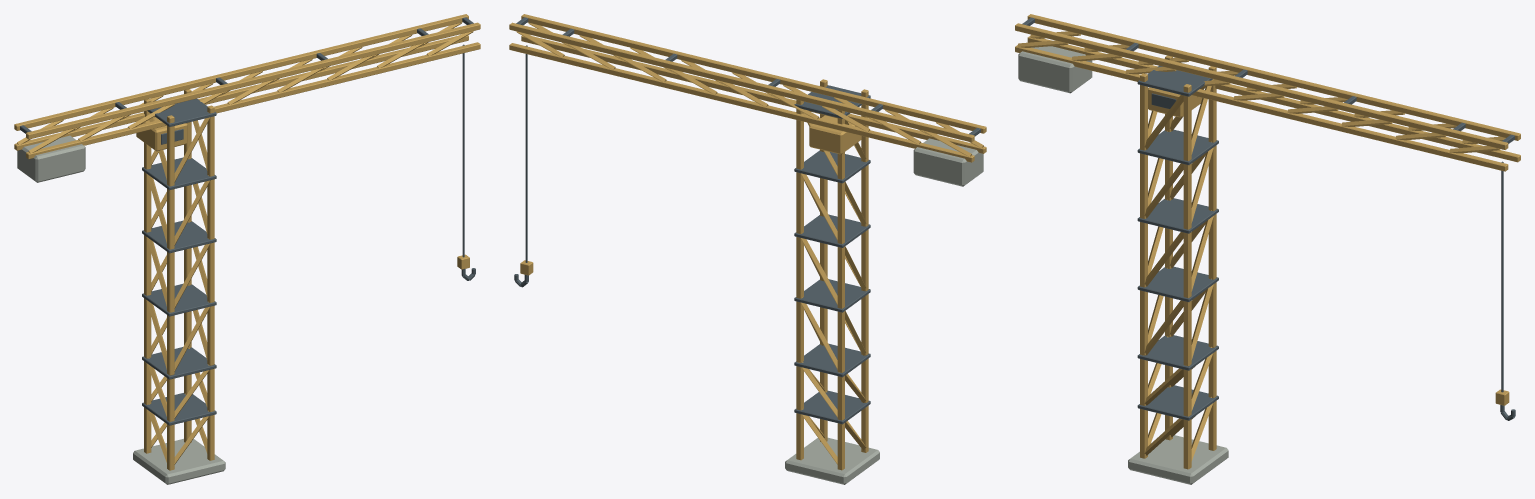
Rendered from crane.glb.
3 renders of one model, left to right at view 1: azimuth 30°, elevation 25°; view 2: azimuth 150°, elevation 25°; view 3: azimuth 330°, elevation 25°, orthographic. The views are drawn at different scales.
Parts seen in each view (by area): view 1: Occlude_Mast_Mesh, Keep_Mesh; view 2: Occlude_Mast_Mesh, Keep_Mesh; view 3: Occlude_Mast_Mesh, Keep_Mesh.
Part boxes in pixels (x1,y1,x2,y2): Occlude_Mast_Mesh: (14,14,480,375); Keep_Mesh: (133,347,225,484); Occlude_Mast_Mesh: (509,14,986,372); Keep_Mesh: (785,344,879,484); Occlude_Mast_Mesh: (1015,14,1520,420); Keep_Mesh: (1128,335,1228,484).
Size of the model in its own units: 18.07 by 14 by 2.4.
